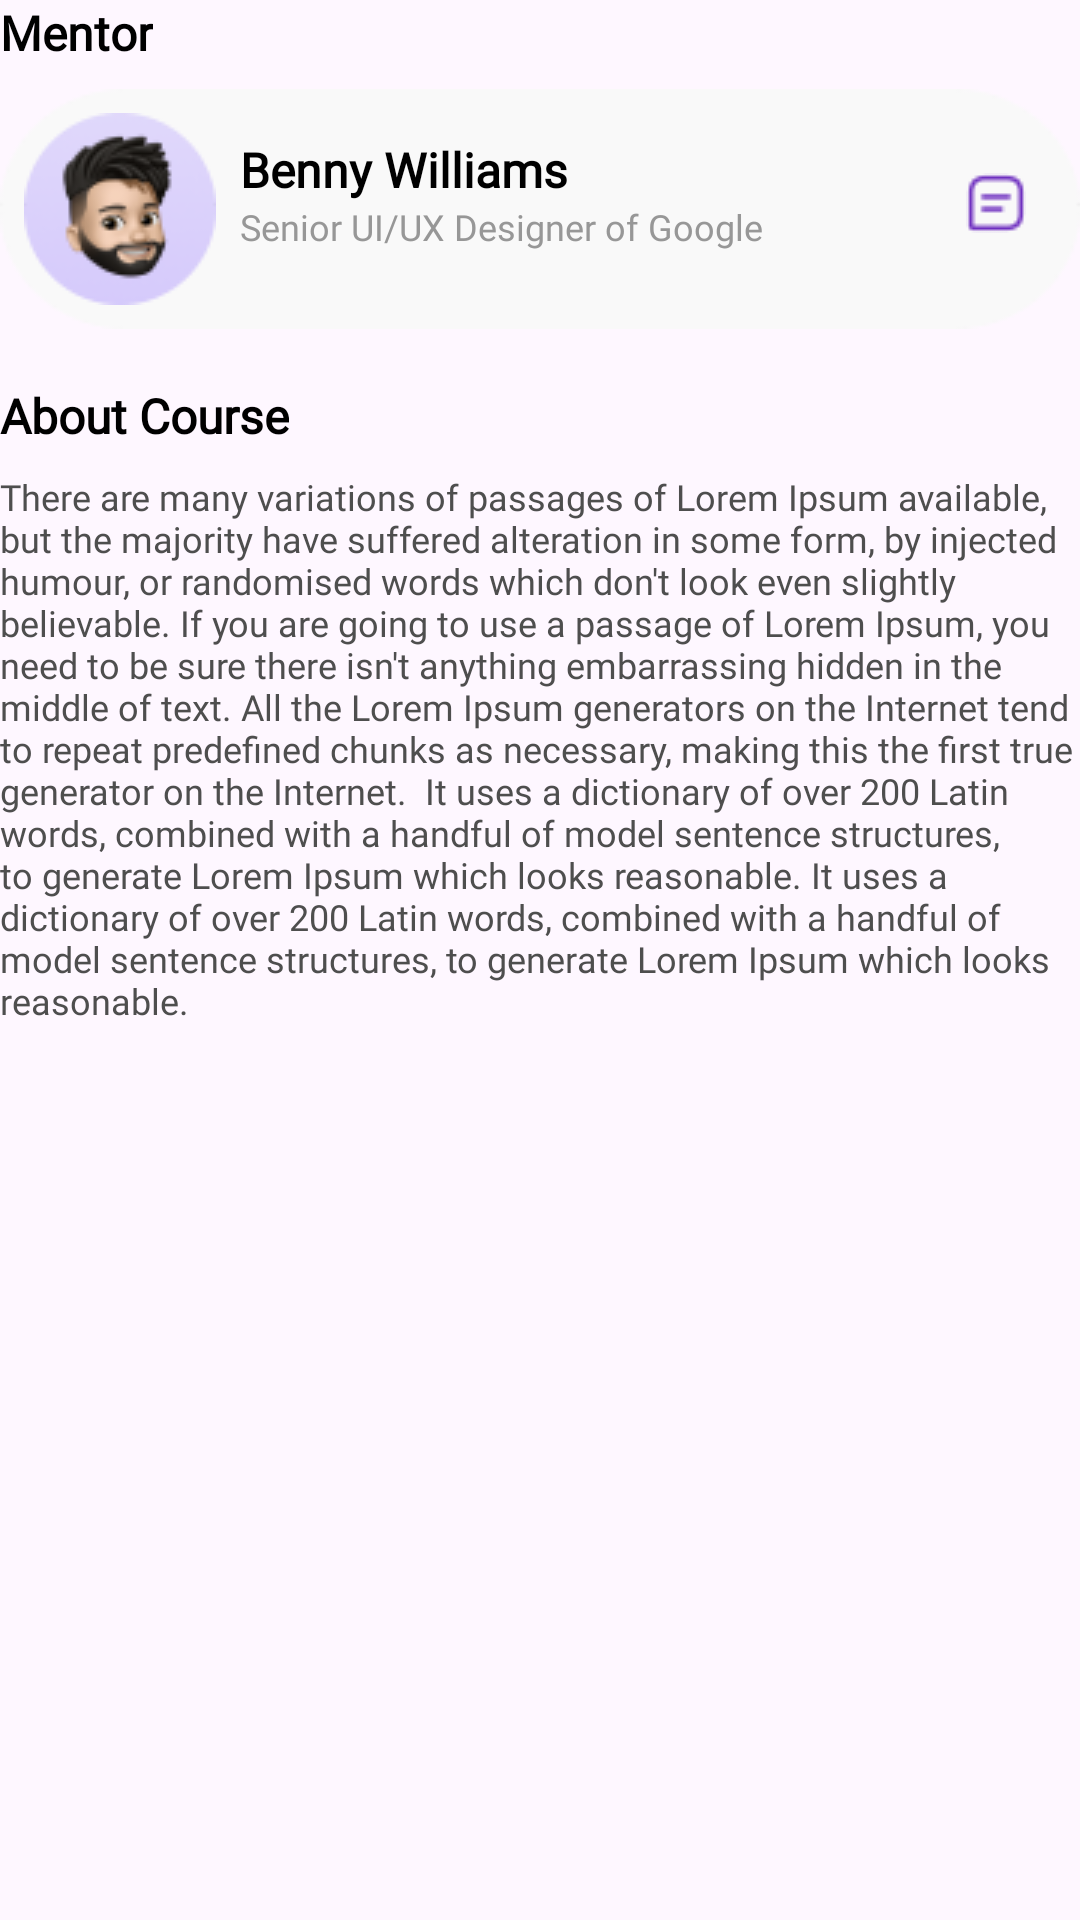

Named icons in this screenshot (1080×1920) and their centers, (x,y):
message: (996,203)
